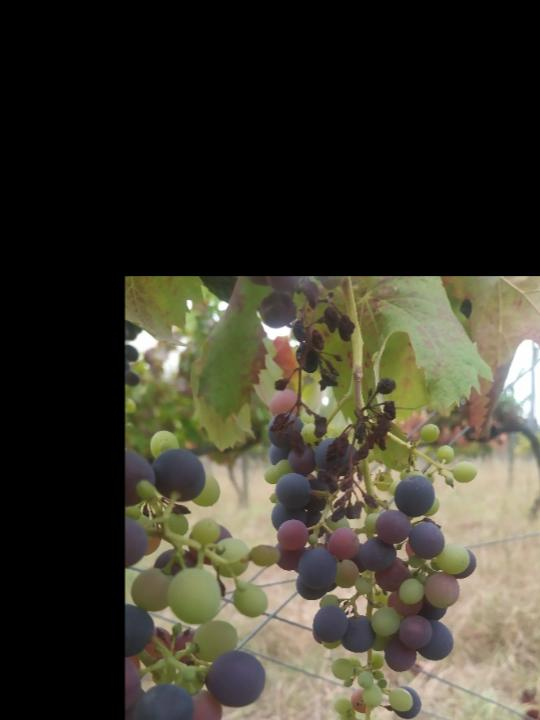grape: (262, 379, 478, 720), (251, 278, 357, 458)
